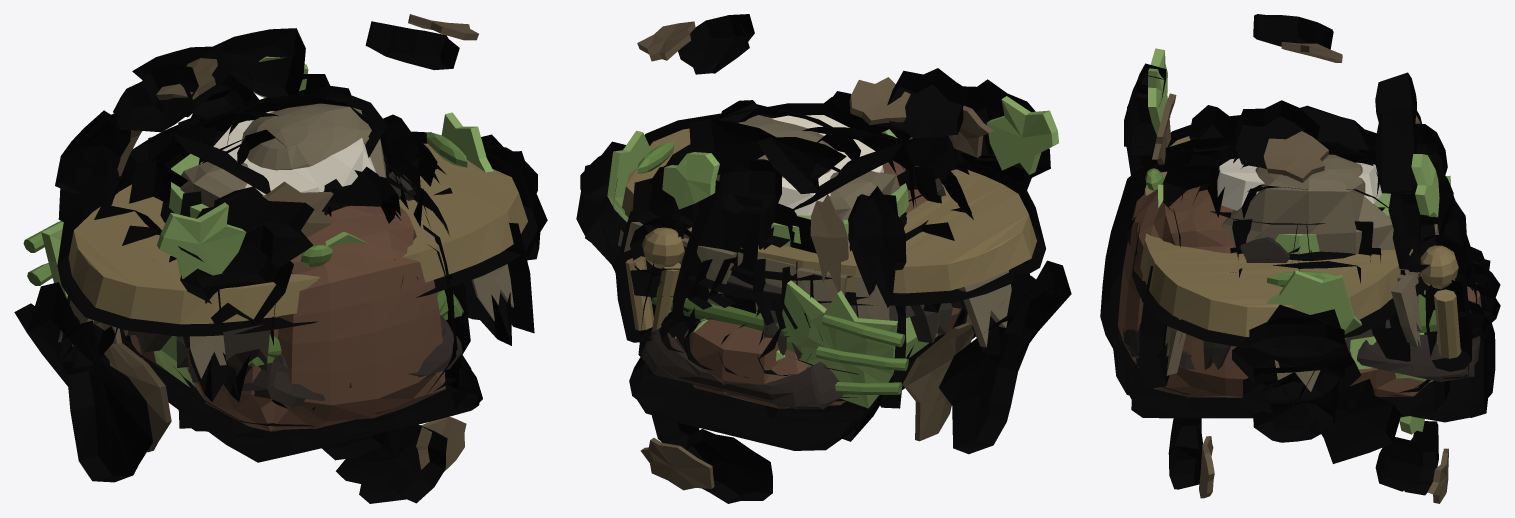
File: ZombieKit.glb
The picture shows the model from 3 angles, left to right: view 1: azimuth 30°, elevation 25°; view 2: azimuth 150°, elevation 25°; view 3: azimuth 270°, elevation 25°; orthographic projection. The views are drawn at different scales.
Parts seen in each view (by area): view 1: Zombie_UpperTorso__000000, Zombie_RightFoot__5A4030, Zombie_LowerTorso__7C6C48, Zombie_LowerTorso__000000, Zombie_UpperTorso__5C4E3A, Zombie_UpperTorso__7FA05A, Zombie_RightFoot__000000, Zombie_Head__000000, Zombie_LeftUpperArm__6A604C, Zombie_LeftFoot__000000, Zombie_LeftLowerArm__D8D2C0, Zombie_RightFoot__2A2420 (+12 smaller); view 2: Zombie_UpperTorso__000000, Zombie_LowerTorso__7C6C48, Zombie_UpperTorso__7FA05A, Zombie_UpperTorso__5C4E3A, Zombie_Head__000000, Zombie_LowerTorso__000000, Zombie_RightFoot__000000, Zombie_RightFoot__5A4030, Zombie_LowerTorso__6A604C, Zombie_RightFoot__2A2420, Zombie_UpperTorso__5E7E40, Zombie_RightUpperArm__000000 (+12 smaller); view 3: Zombie_UpperTorso__000000, Zombie_LowerTorso__7C6C48, Zombie_RightFoot__5A4030, Zombie_LeftUpperArm__6A604C, Zombie_Head__000000, Zombie_LowerTorso__000000, Zombie_RightFoot__000000, Zombie_LeftFoot__000000, Zombie_UpperTorso__7FA05A, Zombie_UpperTorso__5C4E3A, Zombie_RightFoot__2A2420, Zombie_LowerTorso__6A604C (+10 smaller).
Part boxes in pixels (x1,y1,x2,y2): Zombie_UpperTorso__000000: (14, 21, 547, 503); Zombie_RightFoot__5A4030: (123, 205, 445, 431); Zombie_LowerTorso__7C6C48: (68, 143, 527, 324); Zombie_LowerTorso__000000: (57, 131, 537, 410); Zombie_UpperTorso__5C4E3A: (93, 14, 478, 471); Zombie_UpperTorso__7FA05A: (41, 56, 493, 298); Zombie_RightFoot__000000: (120, 139, 472, 450); Zombie_Head__000000: (94, 114, 453, 347); Zombie_LeftUpperArm__6A604C: (241, 103, 386, 177); Zombie_LeftFoot__000000: (121, 174, 482, 462); Zombie_LeftLowerArm__D8D2C0: (213, 111, 375, 195); Zombie_RightFoot__2A2420: (242, 172, 462, 407); Zombie_UpperTorso__000000: (576, 14, 1071, 503); Zombie_LowerTorso__7C6C48: (622, 128, 1036, 333); Zombie_UpperTorso__7FA05A: (607, 96, 1058, 408); Zombie_UpperTorso__5C4E3A: (637, 21, 993, 490); Zombie_Head__000000: (630, 91, 1024, 340); Zombie_LowerTorso__000000: (611, 113, 1045, 380); Zombie_RightFoot__000000: (629, 126, 969, 450); Zombie_RightFoot__5A4030: (675, 161, 961, 408); Zombie_LowerTorso__6A604C: (618, 222, 1011, 347); Zombie_RightFoot__2A2420: (642, 327, 843, 409); Zombie_UpperTorso__5E7E40: (637, 137, 912, 394); Zombie_RightUpperArm__000000: (793, 127, 914, 209); Zombie_UpperTorso__000000: (1124, 14, 1476, 495); Zombie_LowerTorso__7C6C48: (1140, 136, 1460, 358); Zombie_RightFoot__5A4030: (1118, 182, 1481, 397); Zombie_LeftUpperArm__6A604C: (1222, 154, 1418, 279); Zombie_Head__000000: (1134, 105, 1466, 463); Zombie_LowerTorso__000000: (1132, 115, 1472, 406); Zombie_RightFoot__000000: (1105, 137, 1495, 422); Zombie_LeftFoot__000000: (1100, 150, 1500, 418); Zombie_UpperTorso__7FA05A: (1148, 48, 1450, 434); Zombie_UpperTorso__5C4E3A: (1152, 42, 1448, 503); Zombie_RightFoot__2A2420: (1123, 237, 1480, 381); Zombie_LowerTorso__6A604C: (1165, 224, 1438, 391).
Bounding box in the file's own units: 1.93 × 1.69 × 1.49.
